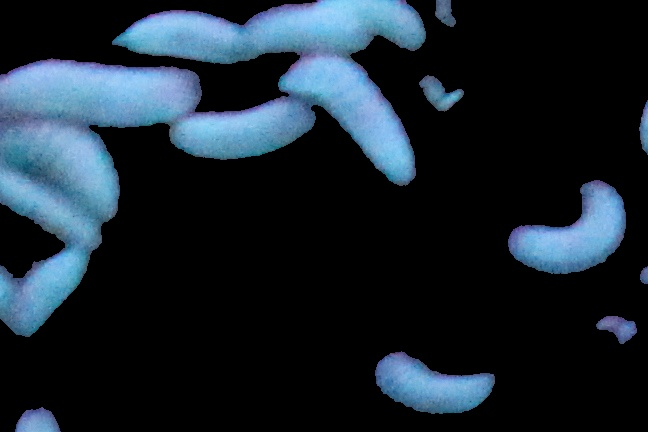larvae: (287, 54, 414, 184), (1, 60, 205, 121), (506, 177, 626, 280), (1, 122, 117, 215), (370, 342, 497, 421), (112, 8, 253, 68), (169, 104, 319, 160), (1, 250, 84, 337), (1, 173, 101, 244), (247, 7, 369, 54), (320, 1, 432, 52)
